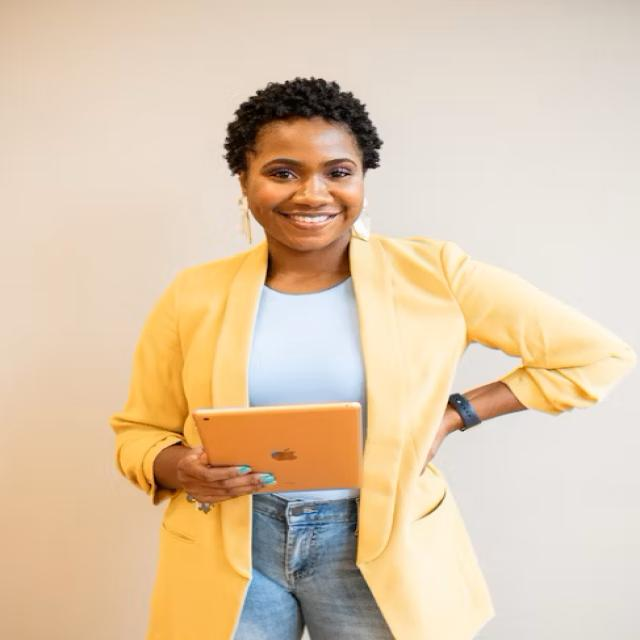Edited images: (94, 63, 621, 640)
